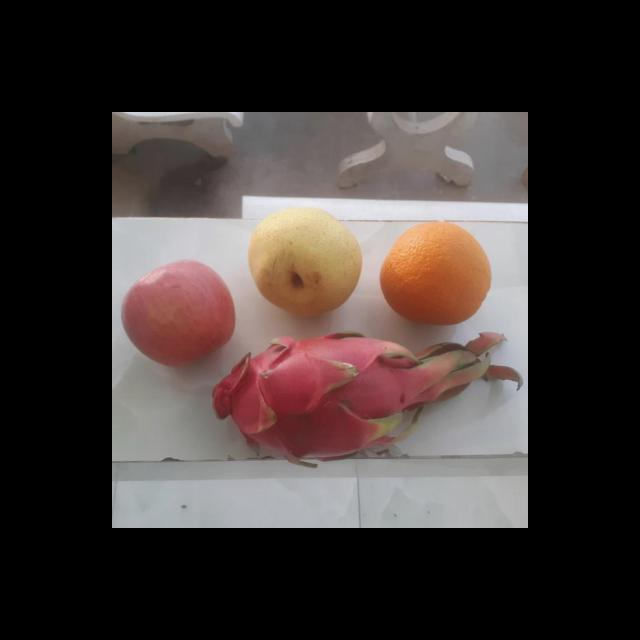apple: (118, 258, 234, 362)
orange: (376, 219, 496, 326)
pear: (242, 209, 366, 315)
pitaya: (195, 330, 424, 460)
